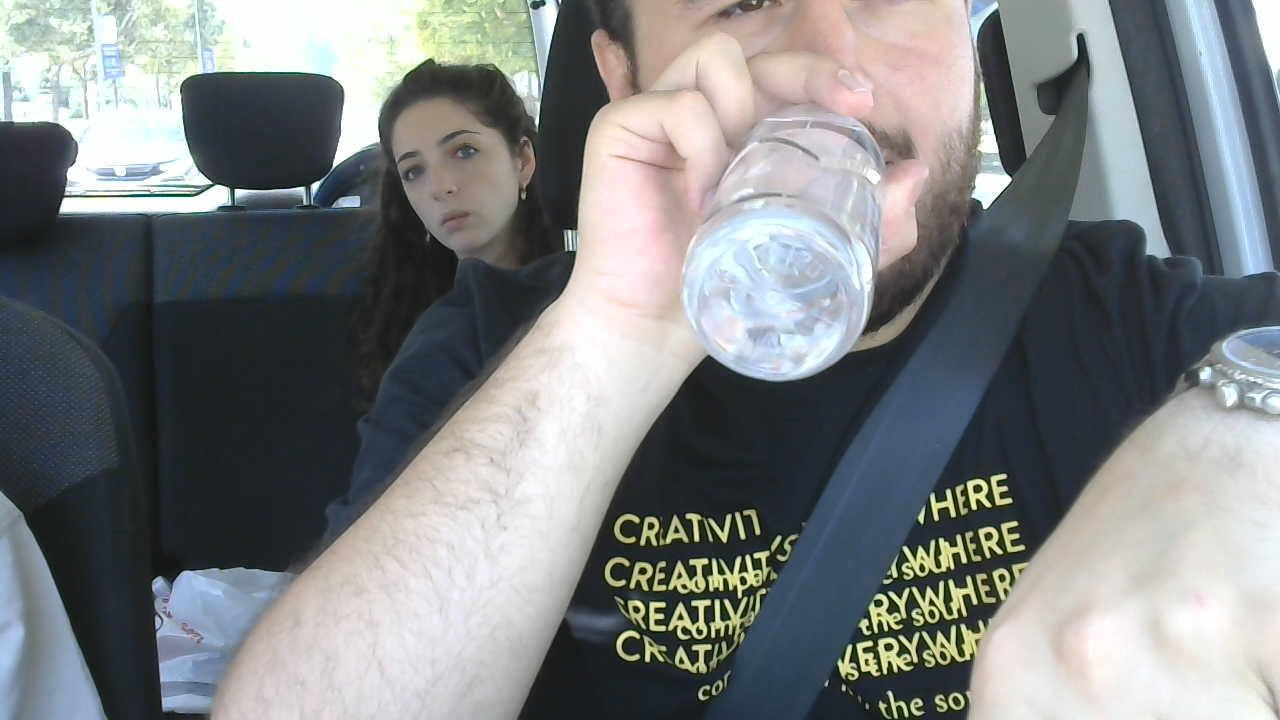Drinking: (580, 0, 979, 383)
